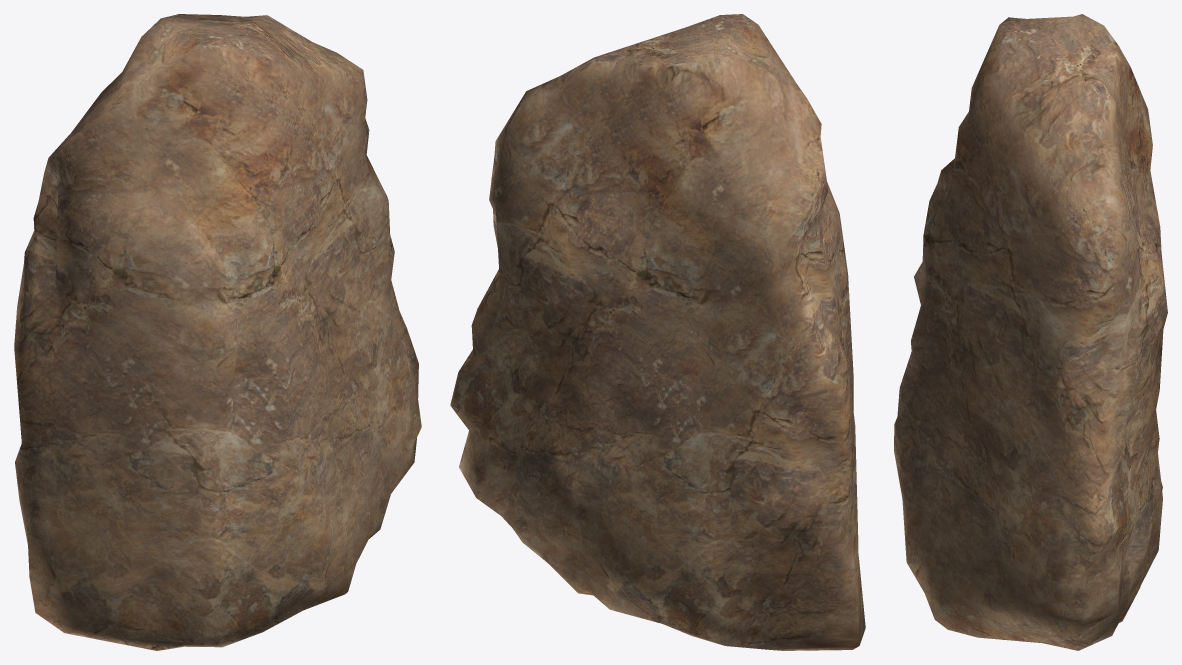
File: rock0.obj
3 renders of one model, left to right at view 1: azimuth 30°, elevation 25°; view 2: azimuth 150°, elevation 25°; view 3: azimuth 270°, elevation 25°, orthographic. The views are drawn at different scales.
Visible parts, largest first — view 1: Rock_5; view 2: Rock_5; view 3: Rock_5.
Boxes of the visible parts, <box> form: Rock_5: <box>14,14,421,650</box>; Rock_5: <box>450,14,865,650</box>; Rock_5: <box>894,14,1167,650</box>.
Size of the model in its own units: 4.83 by 6.75 by 2.87.
1 material, 1 textured.
